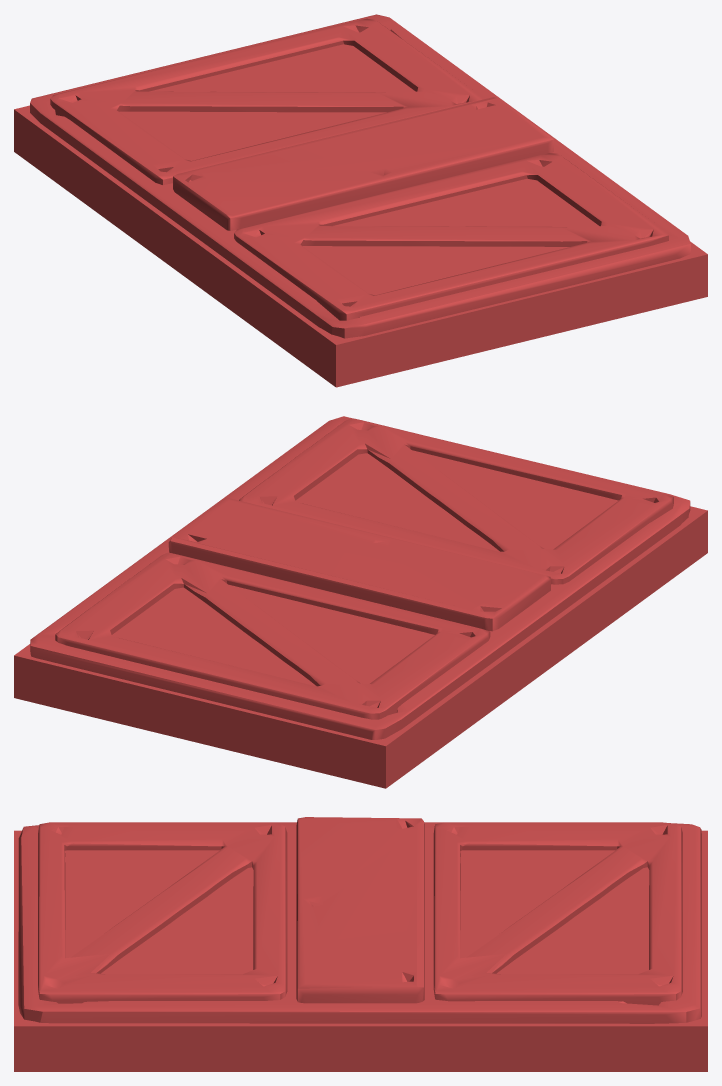
File: Final_ComplexWall_3x2_03.FBX
3 views of the same model, one above another, from view 1: azimuth 30°, elevation 25°; view 2: azimuth 150°, elevation 25°; view 3: azimuth 270°, elevation 25° (orthographic). The views are drawn at different scales.
Parts seen in each view (by area): view 1: Final_ComplexWall_3x2_03; view 2: Final_ComplexWall_3x2_03; view 3: Final_ComplexWall_3x2_03.
Boxes of the visible parts, bbox=[...] form: Final_ComplexWall_3x2_03: bbox=[14, 14, 707, 387]; Final_ComplexWall_3x2_03: bbox=[14, 416, 707, 788]; Final_ComplexWall_3x2_03: bbox=[14, 817, 707, 1071].
Size of the model in its own units: 200 by 300 by 34.86.
